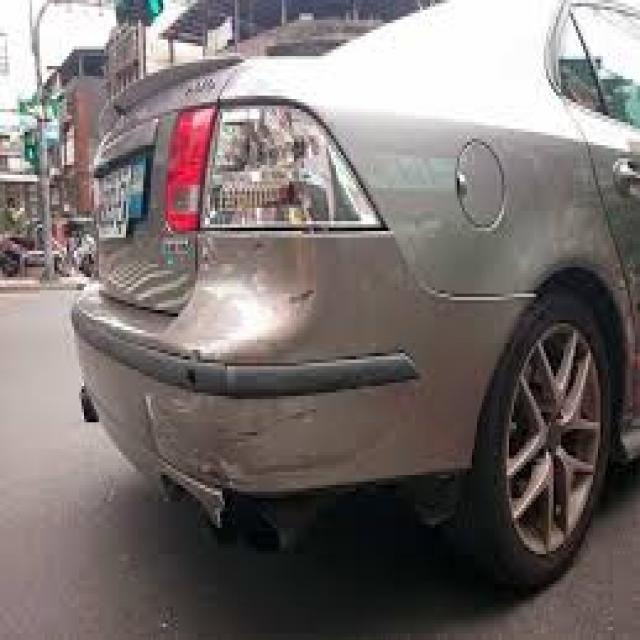minor: (134, 291, 376, 506)
